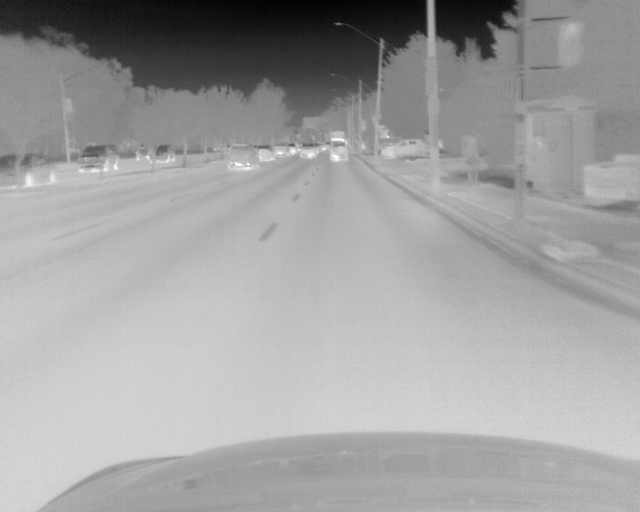car: (1, 152, 59, 191), (77, 144, 121, 174), (379, 137, 429, 160), (226, 144, 260, 172), (329, 137, 348, 163), (152, 144, 174, 166), (255, 143, 274, 163), (272, 142, 286, 159), (299, 145, 316, 159), (286, 143, 298, 156)
people: (460, 133, 487, 187)
